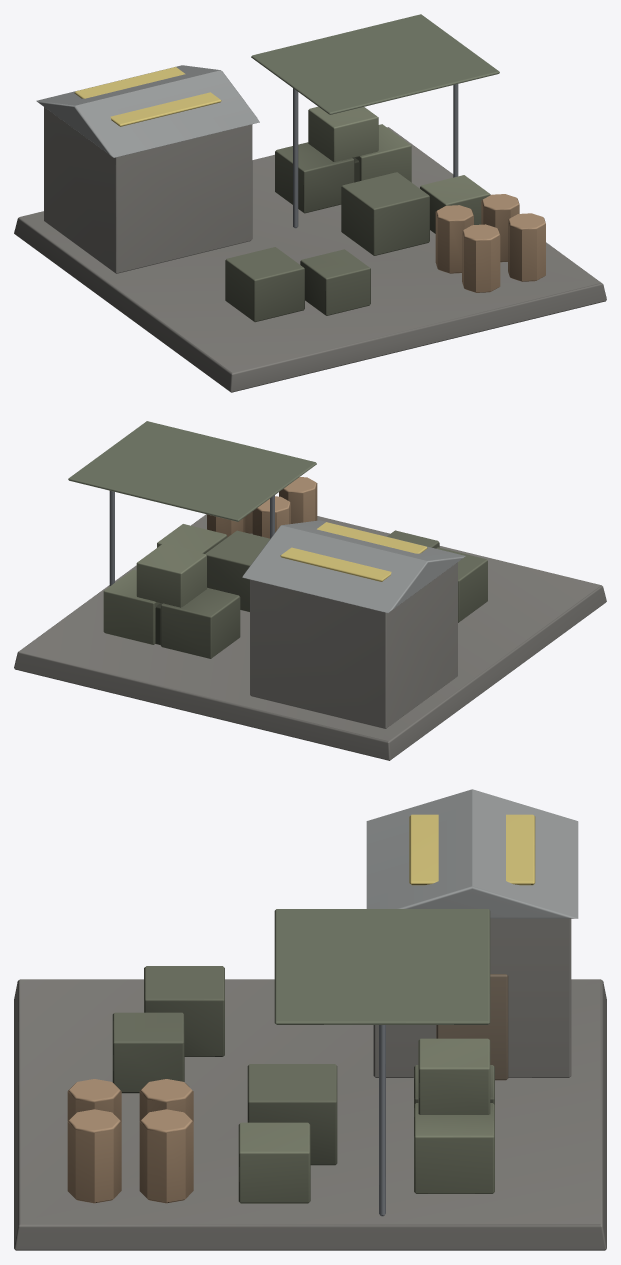
Rendered from supply_depot.glb.
3 views of the same model, one above another, from view 1: azimuth 30°, elevation 25°; view 2: azimuth 150°, elevation 25°; view 3: azimuth 270°, elevation 25° (orthographic). The views are drawn at different scales.
Parts seen in each view (by area): view 1: Body; view 2: Body; view 3: Body.
Part boxes in pixels (x1=…): Body: x1=14, y1=14, x2=606, y2=392; Body: x1=14, y1=421, x2=606, y2=760; Body: x1=14, y1=789, x2=606, y2=1250.
Bounding box in the file's own units: 6.59 × 2.72 × 6.59.
